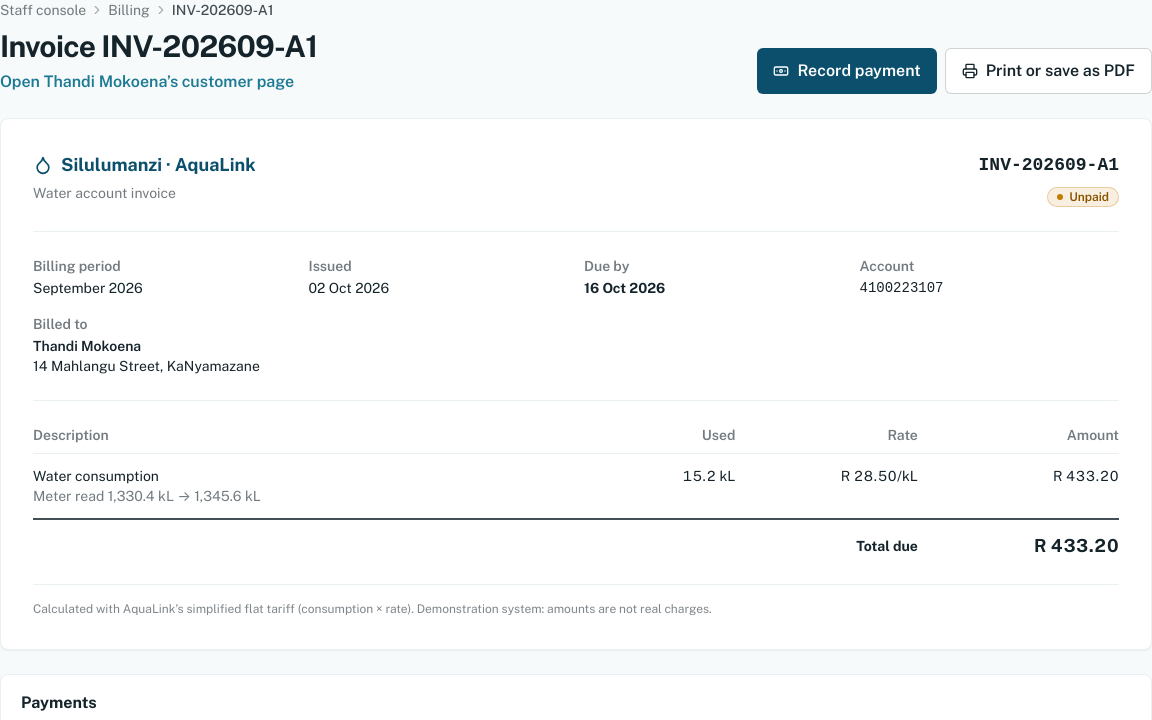
Test: Paying from the invoice page › billing records an EFT payment (reference required) and the page reloads
This screenshot has width=1152, height=720.
Click the button "Record payment" at (847, 71), box [757, 48, 937, 94]
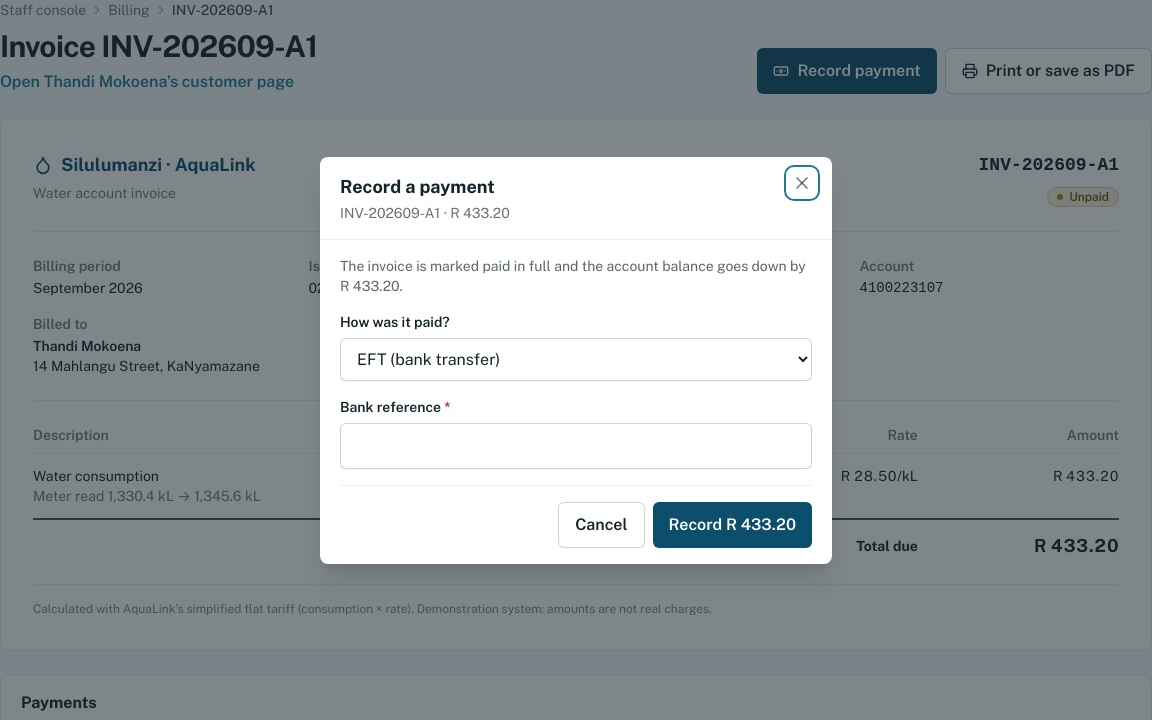
Click the button "Record R 433.20" at (732, 524), box [653, 502, 812, 548]
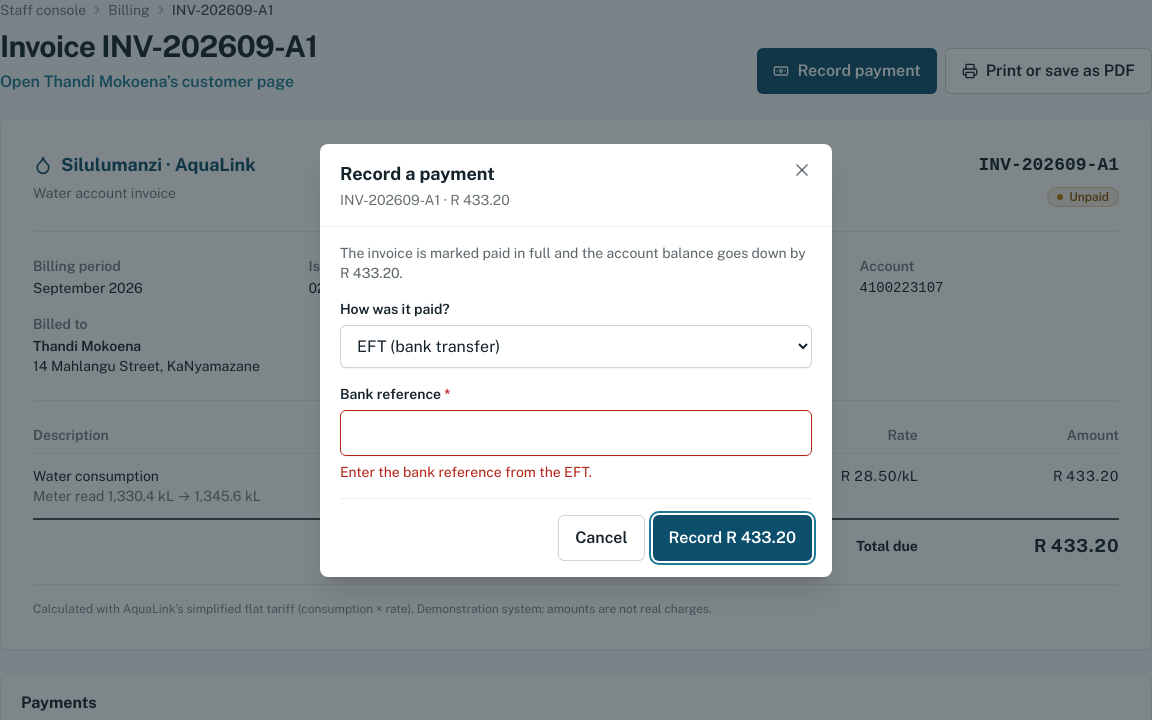
Check: the text "Enter the bank reference from the EFT." is shown, box [340, 464, 592, 480]
Type "FNB 4100223107" into the field labelled "Bank reference *" at (576, 432), box [340, 410, 812, 456]
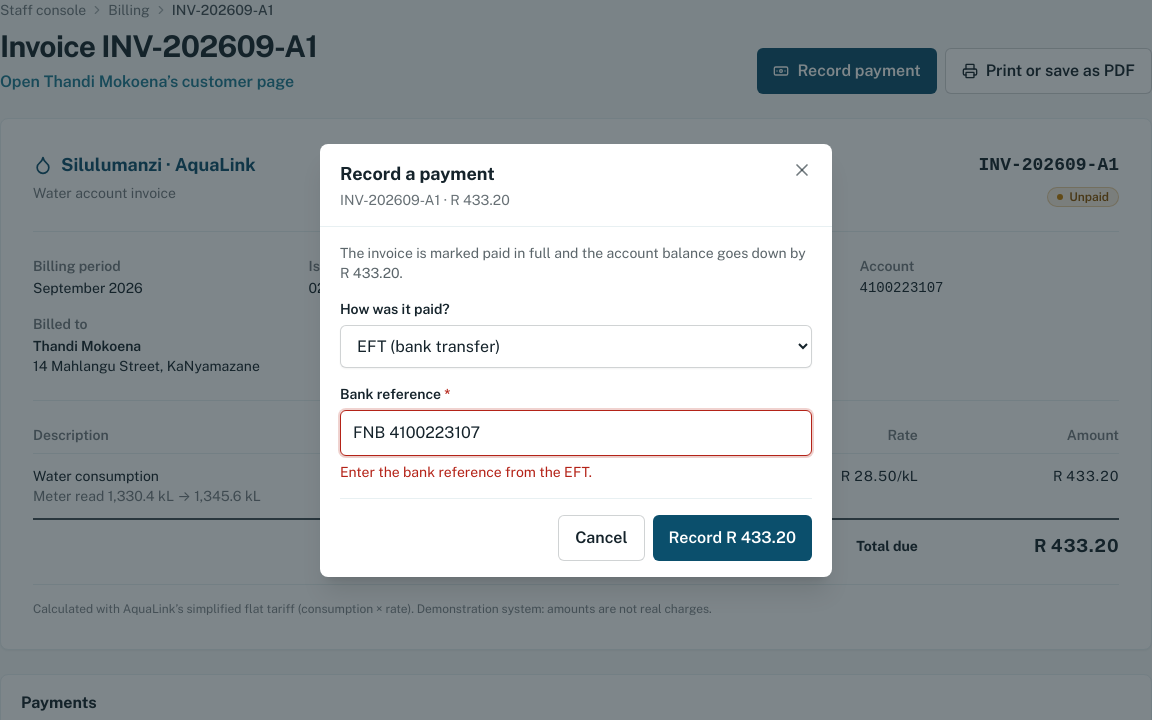
Click the button "Record R 433.20" at (732, 538), box [653, 514, 812, 560]
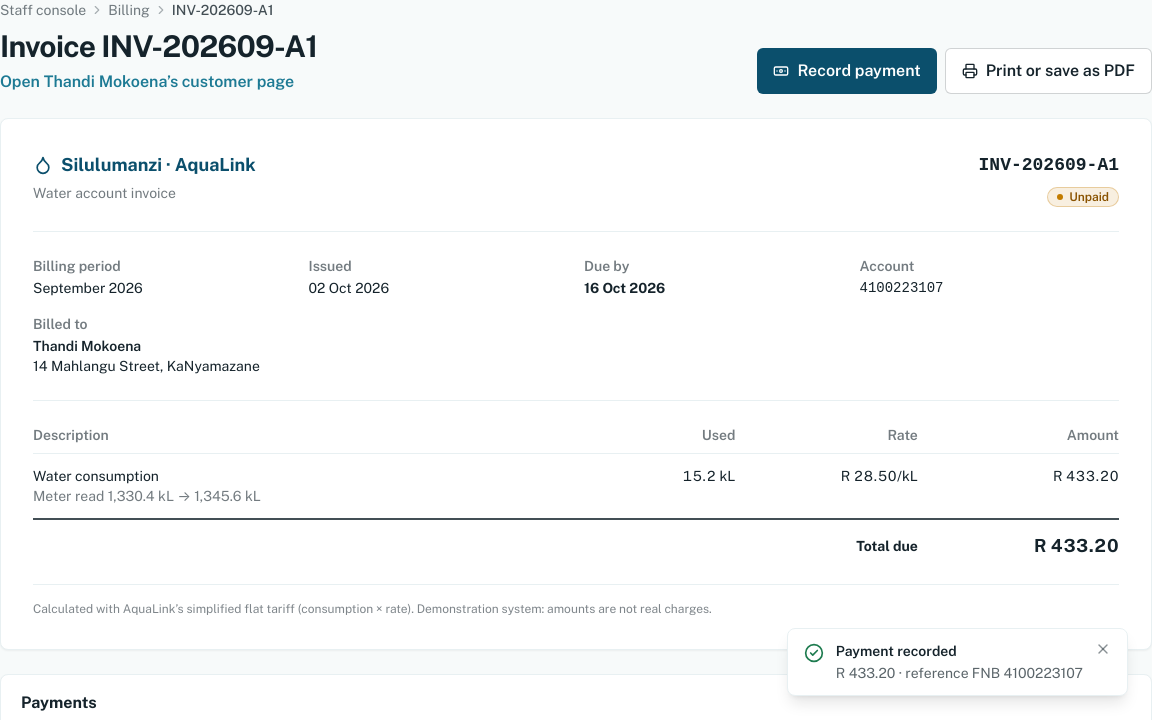
Check: the text "Payment recorded" is shown, box [836, 643, 957, 659]
